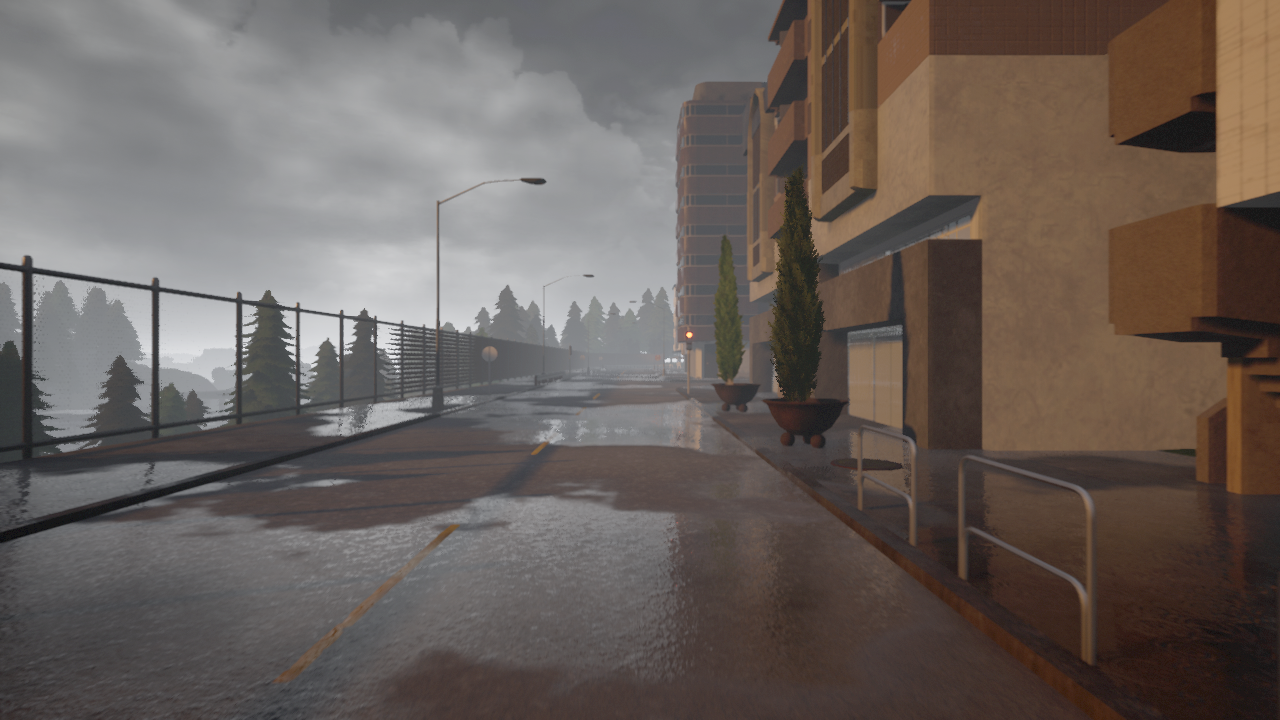red: (685, 331, 693, 352)
